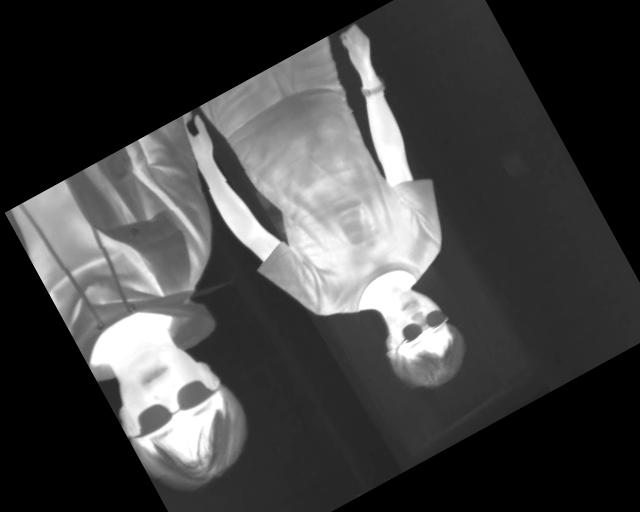face: (92, 318, 265, 508), (362, 277, 478, 402)
